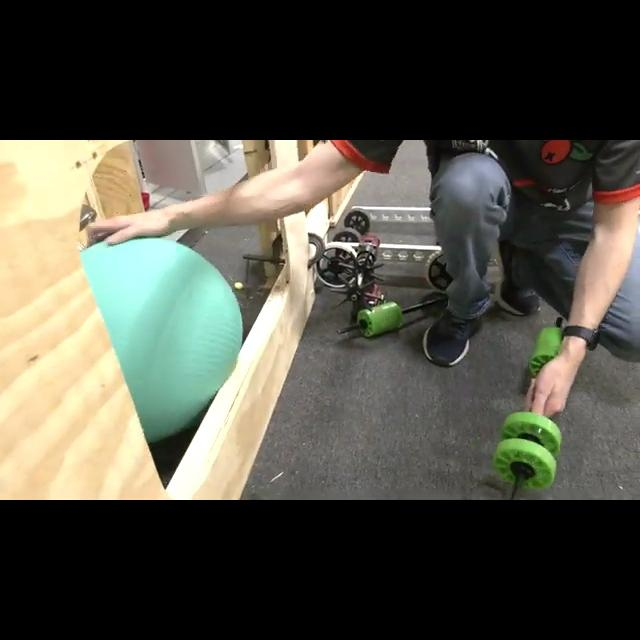ALGAE: (78, 235, 244, 443)
